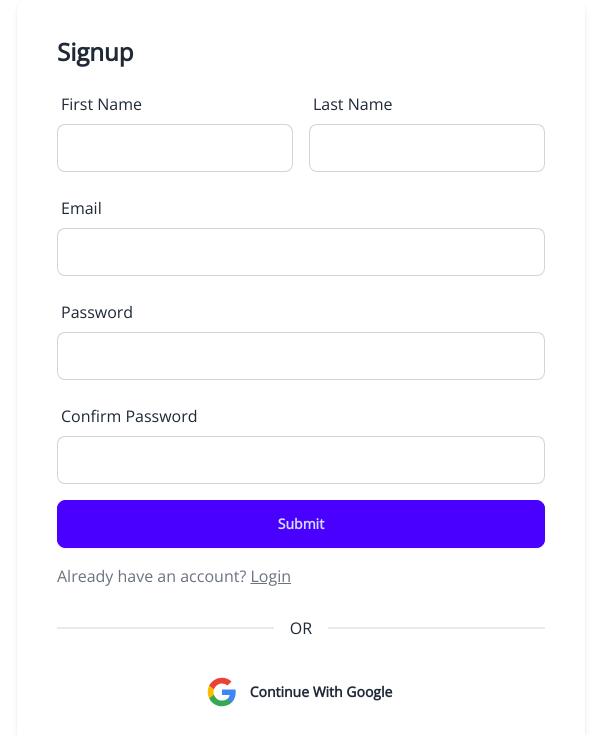
/signup › should show validation errors for empty fields
Click the button "Submit": click(301, 524) [57,500,545,548]
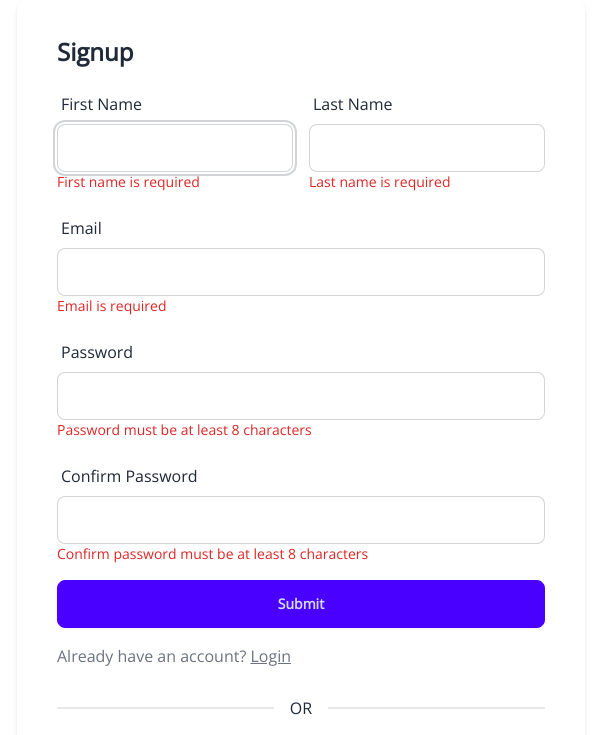
Expected: the text "First name is required" is shown, [57,172,200,191]
Expected: the text "Last name is required" is shown, [309,172,450,191]
Expected: the text "Email is required" is shown, [57,296,166,315]
